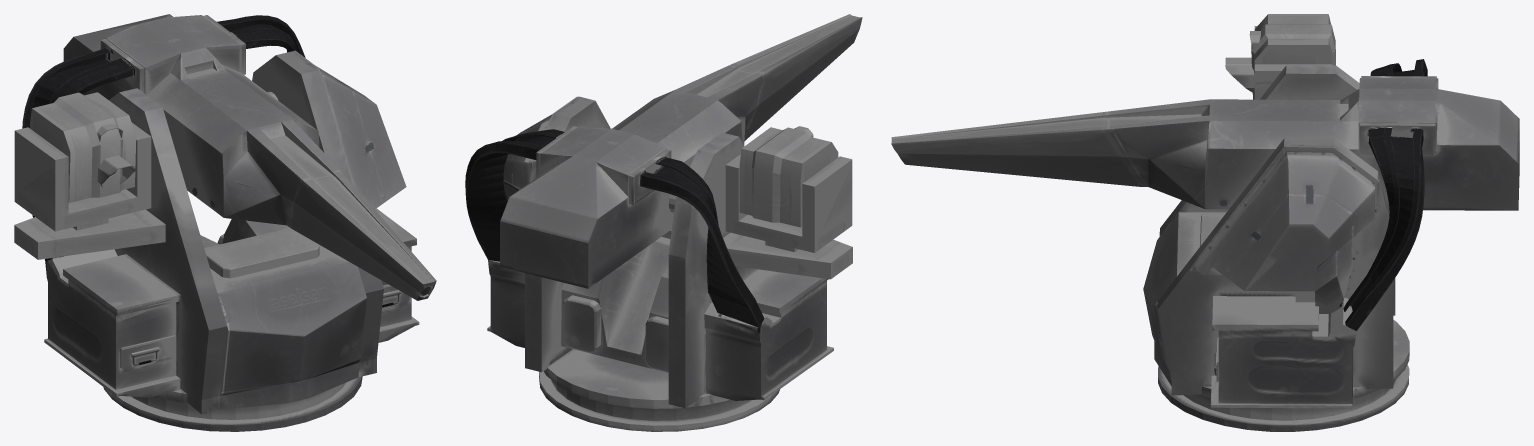
Rendered from stop.FBX.
3 renders of one model, left to right at view 1: azimuth 30°, elevation 25°; view 2: azimuth 150°, elevation 25°; view 3: azimuth 270°, elevation 25°, orthographic. The views are drawn at different scales.
Visible parts, largest first — view 1: Object250; view 2: Object250; view 3: Object250.
Part boxes in pixels (<box>): Object250: <box>14,14,436,431</box>; Object250: <box>465,14,862,431</box>; Object250: <box>891,14,1519,431</box>.
Bounding box in the file's own units: 0.2028 × 0.3234 × 0.1618.
1 material, 1 textured.
